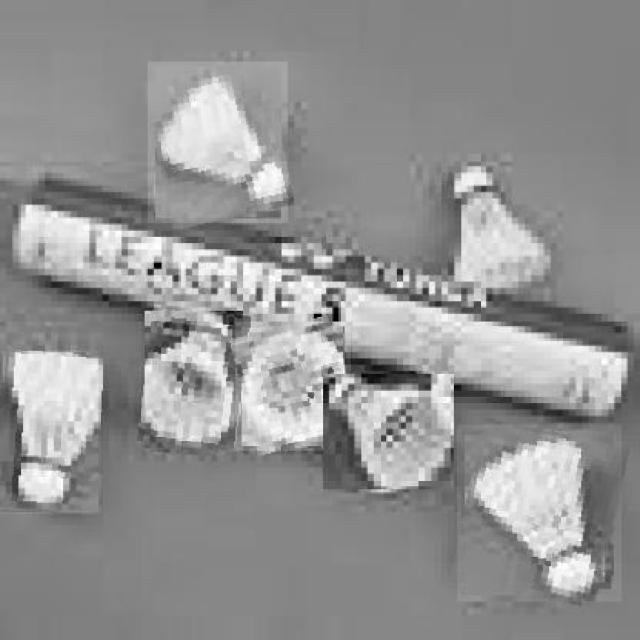Shuttlecock: (457, 424, 621, 602), (148, 62, 288, 223), (0, 351, 100, 514), (142, 308, 248, 455), (323, 374, 454, 489), (235, 322, 351, 451)
